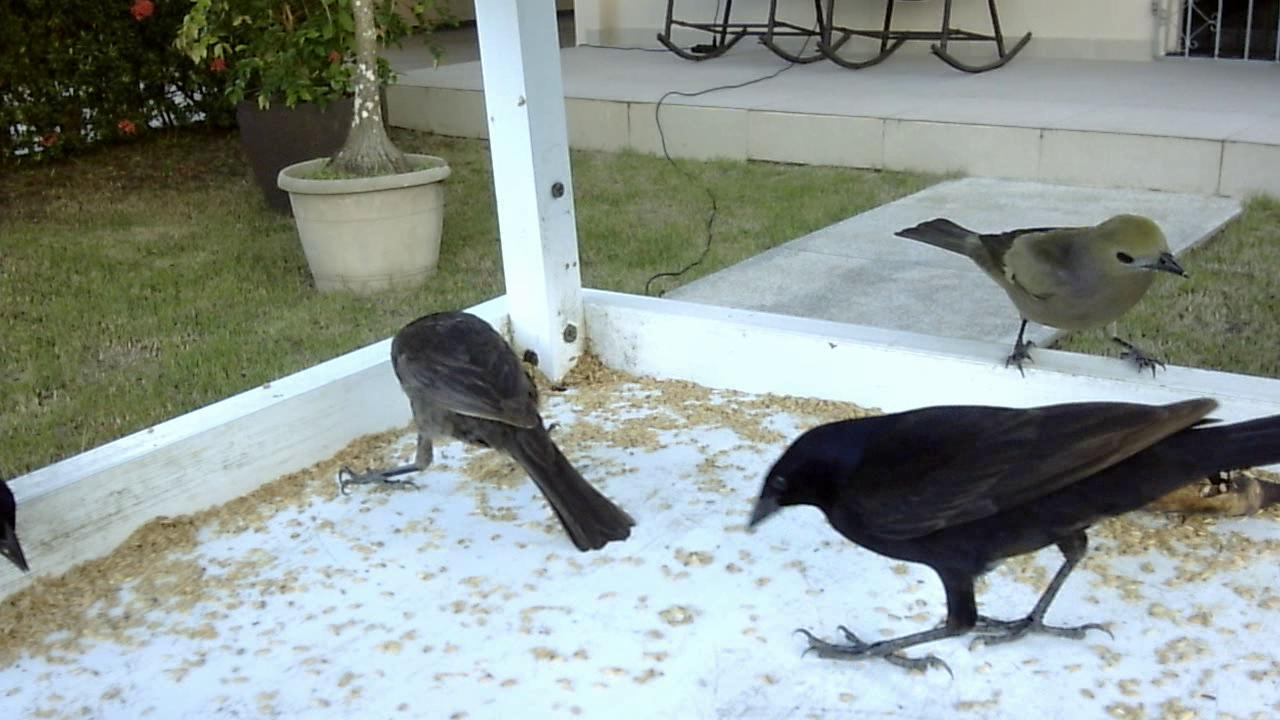chupim: (744, 385, 1275, 671), (323, 297, 646, 562)
sanhaco_do_coqueiro: (890, 203, 1199, 389)
